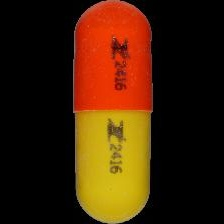54868-0024: (0, 0, 224, 224)
